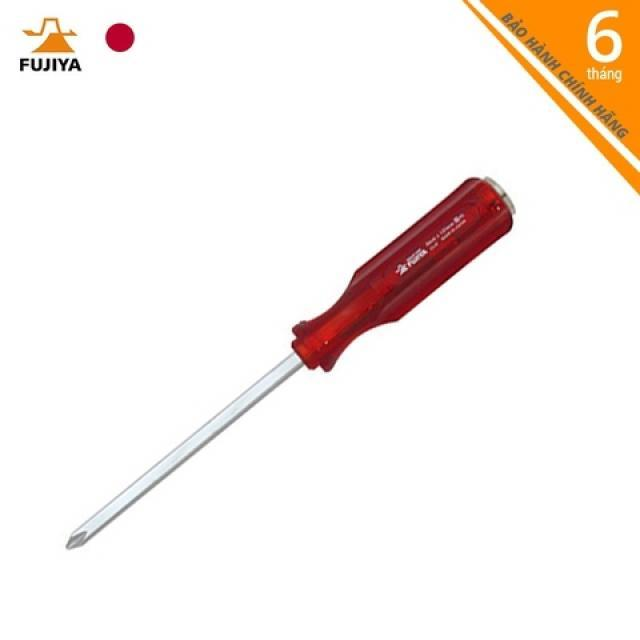screwdriver: (52, 170, 520, 554)
